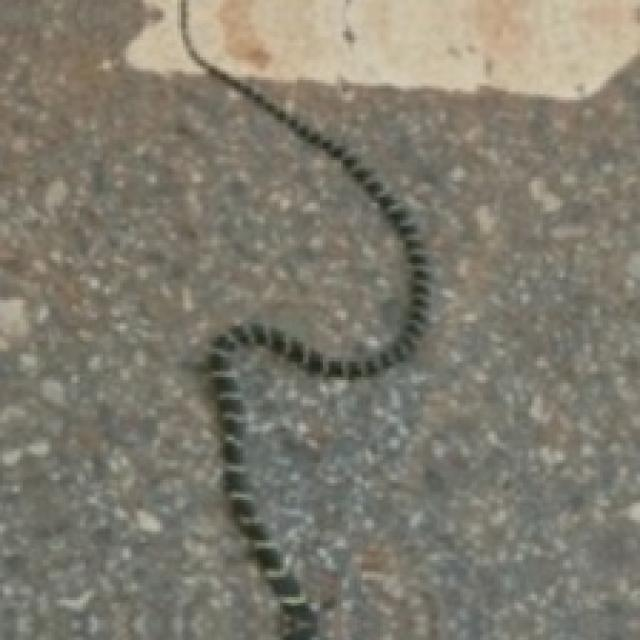king cobra: (180, 0, 429, 637)
